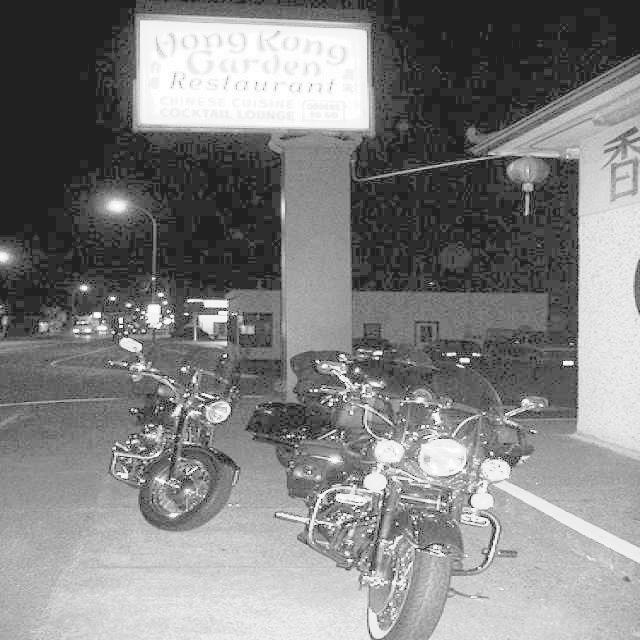Motorcycle: (285, 316, 581, 640), (71, 258, 292, 537)
